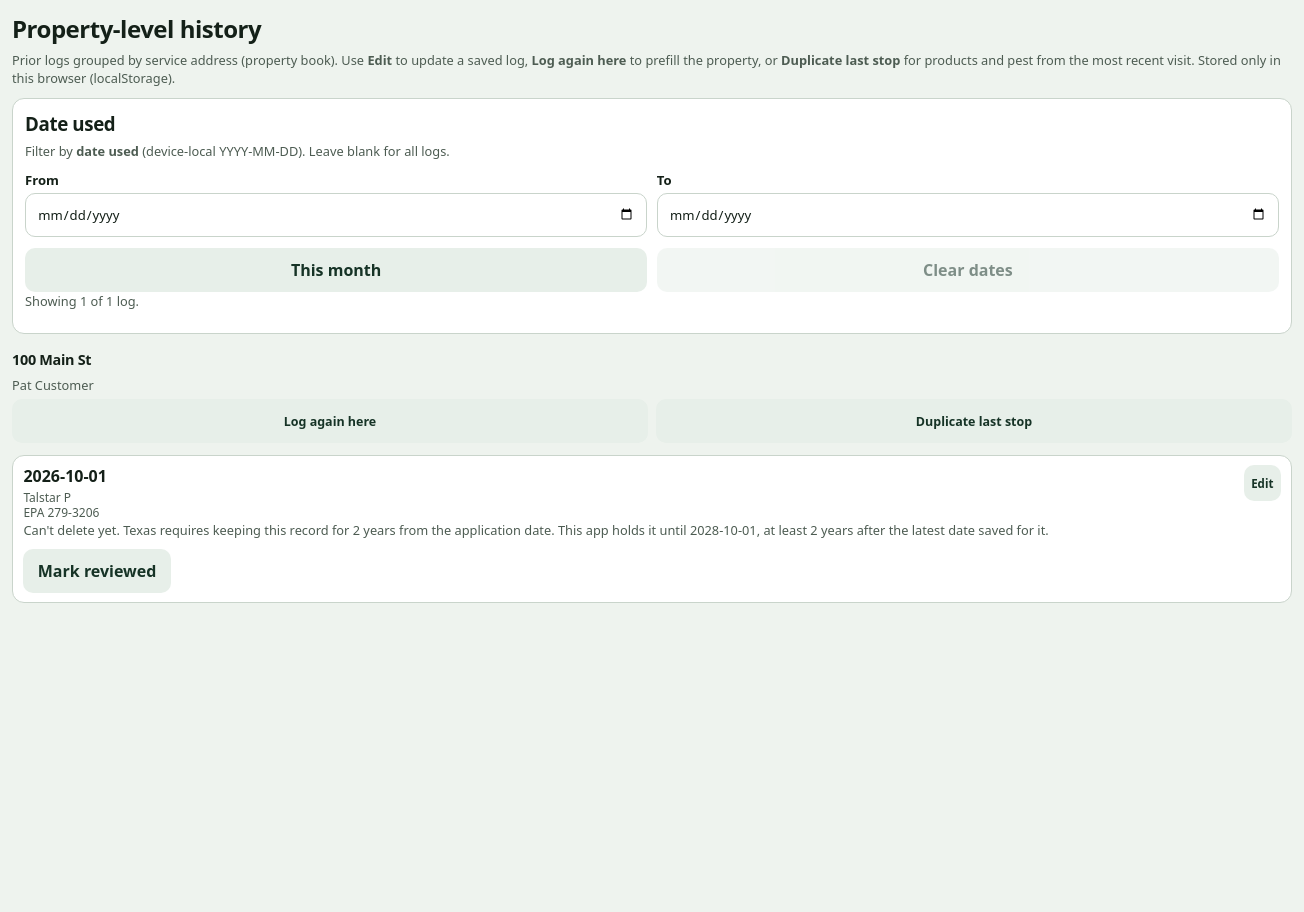
it: History — Mark reviewed (office) › shows the storage error when marking fails
Click the button "Mark reviewed".
click(97, 571)  # box [23, 549, 171, 593]
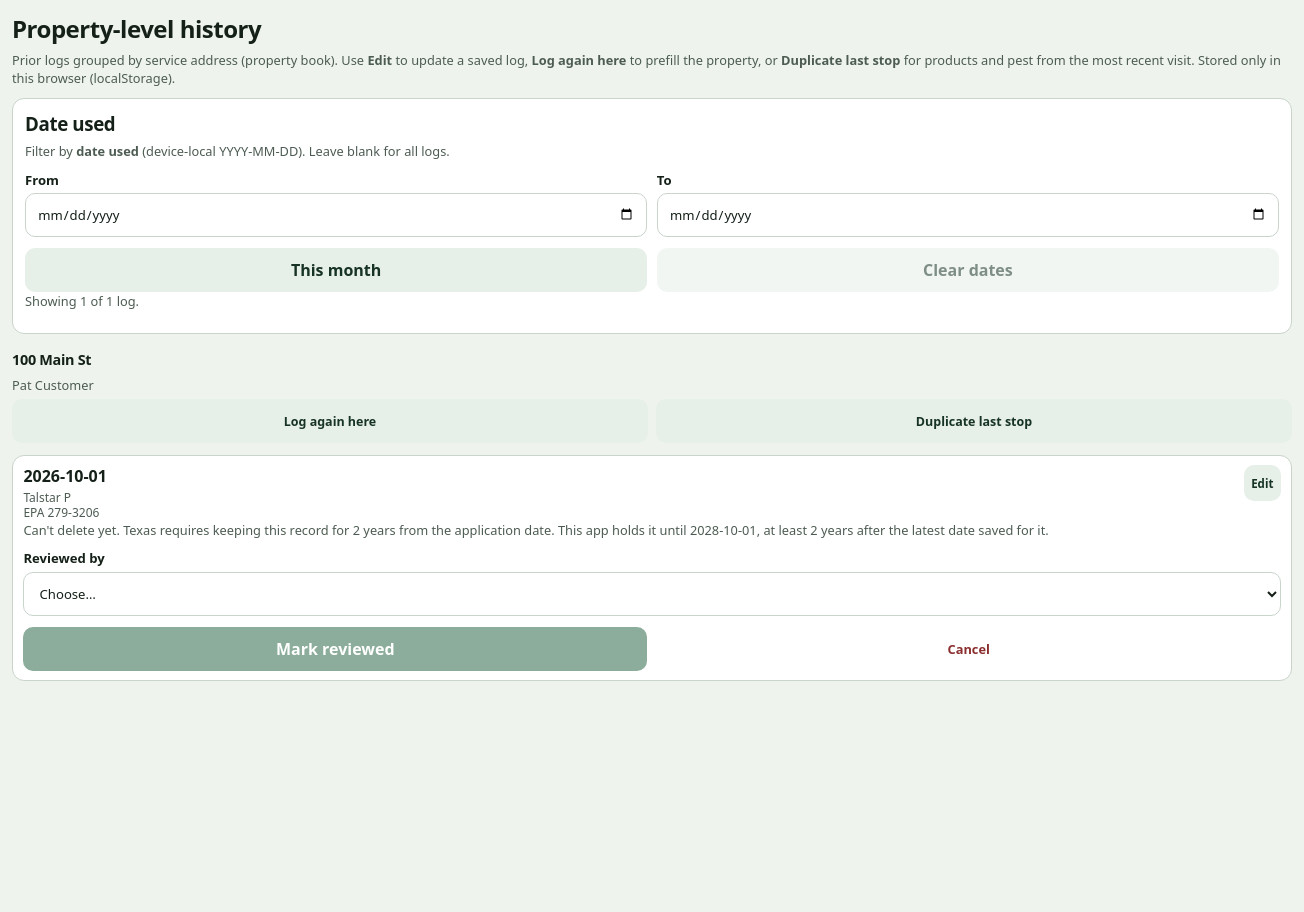
Select "Ana Office" in the dropdown labelled "Reviewed by" at [652, 594], box [23, 572, 1281, 616]
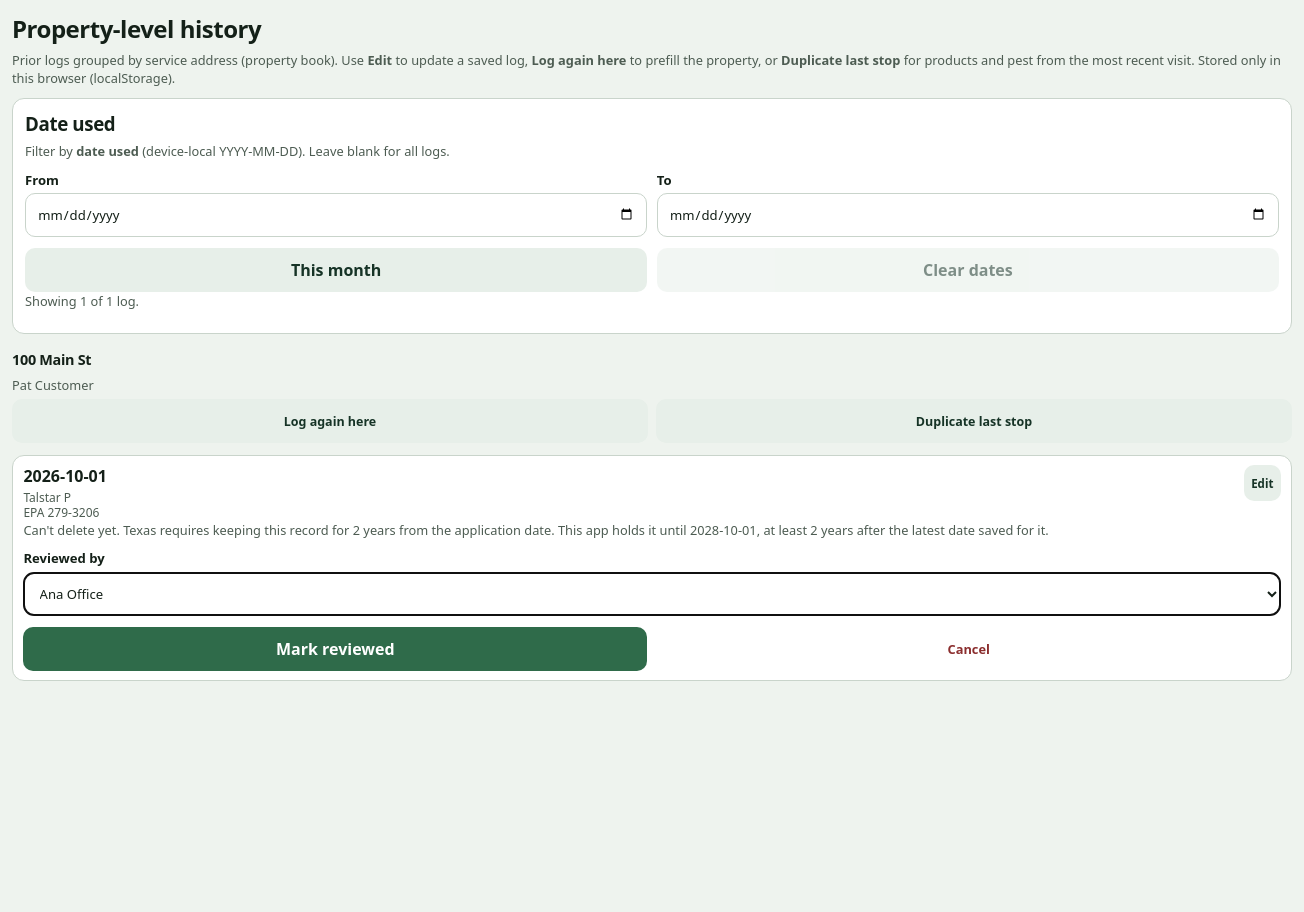
Click the button "Mark reviewed".
click(335, 649)  # box [23, 627, 647, 671]
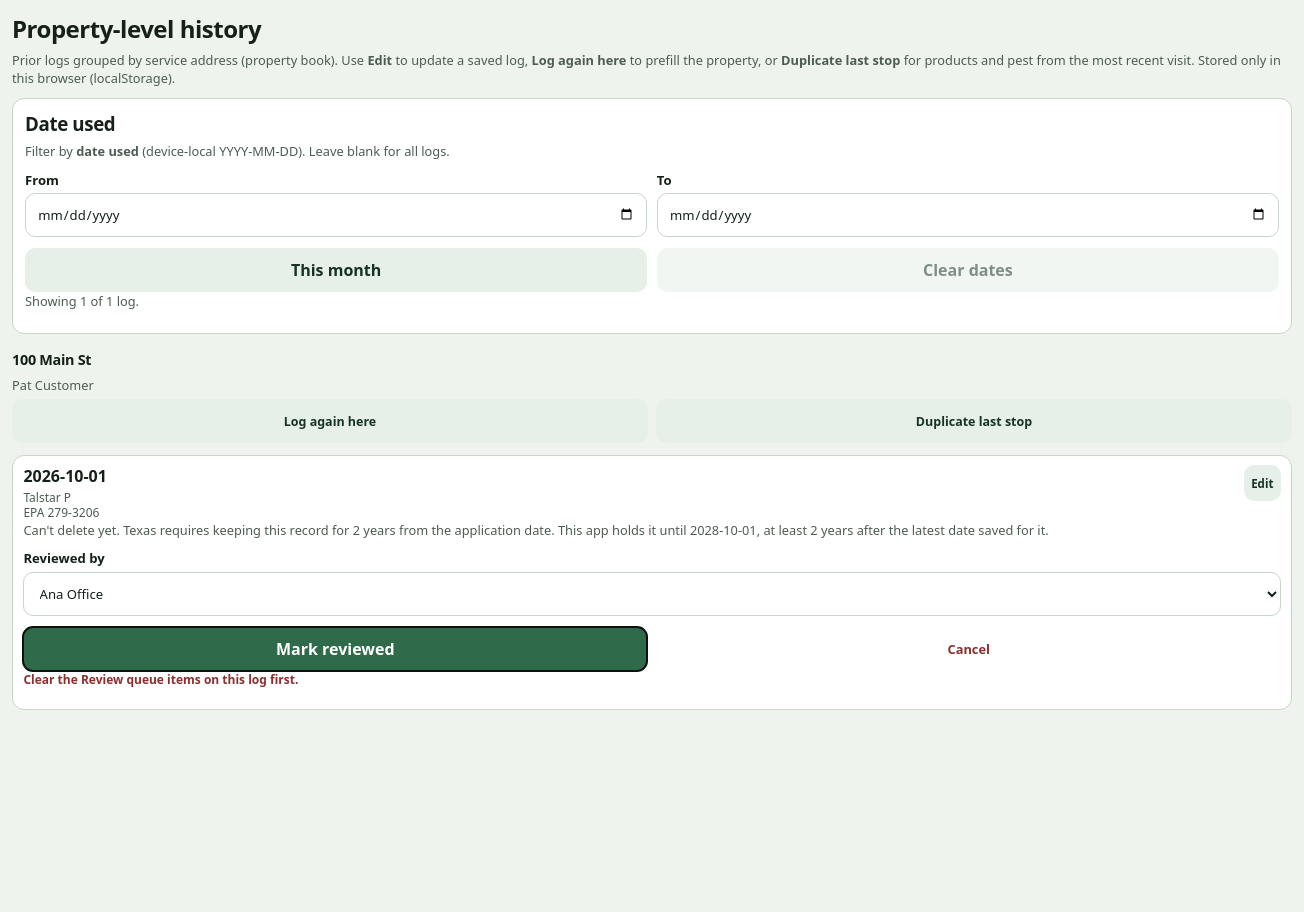
Result: the message "Clear the Review queue items on this log first." is shown at [23, 671, 298, 688]
